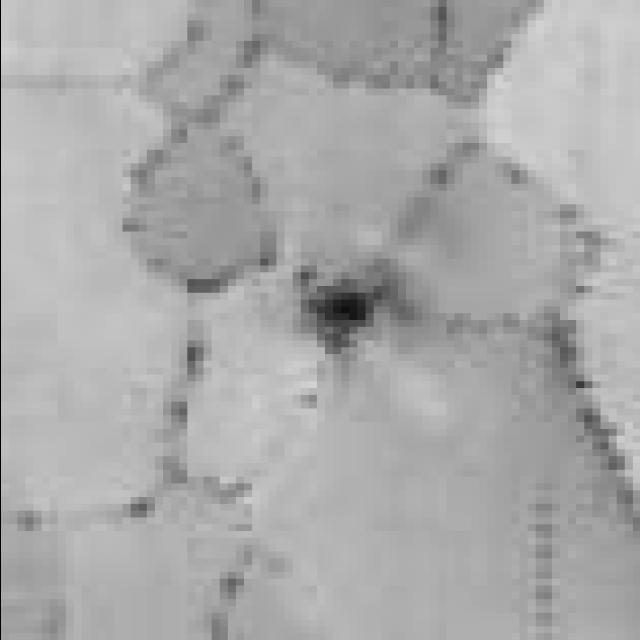good_void: (281, 254, 395, 371)
